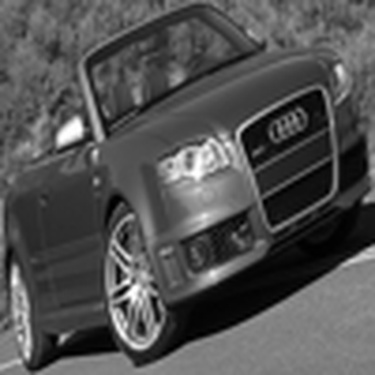car: (1, 11, 370, 369)
